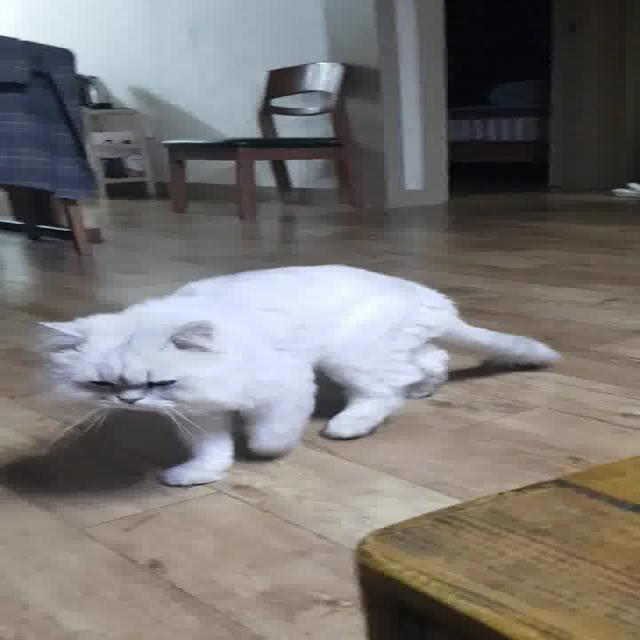cat: (33, 259, 569, 486)
